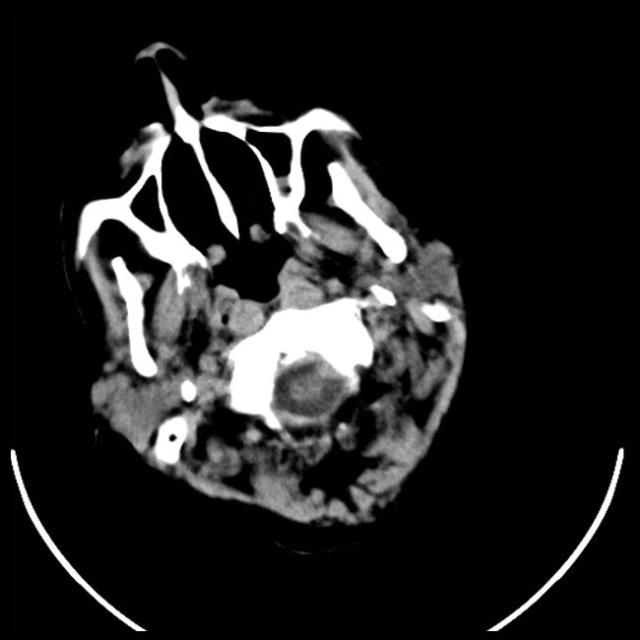lesion: (64, 38, 473, 536)
